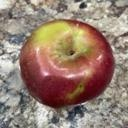apple: (19, 19, 115, 108)
